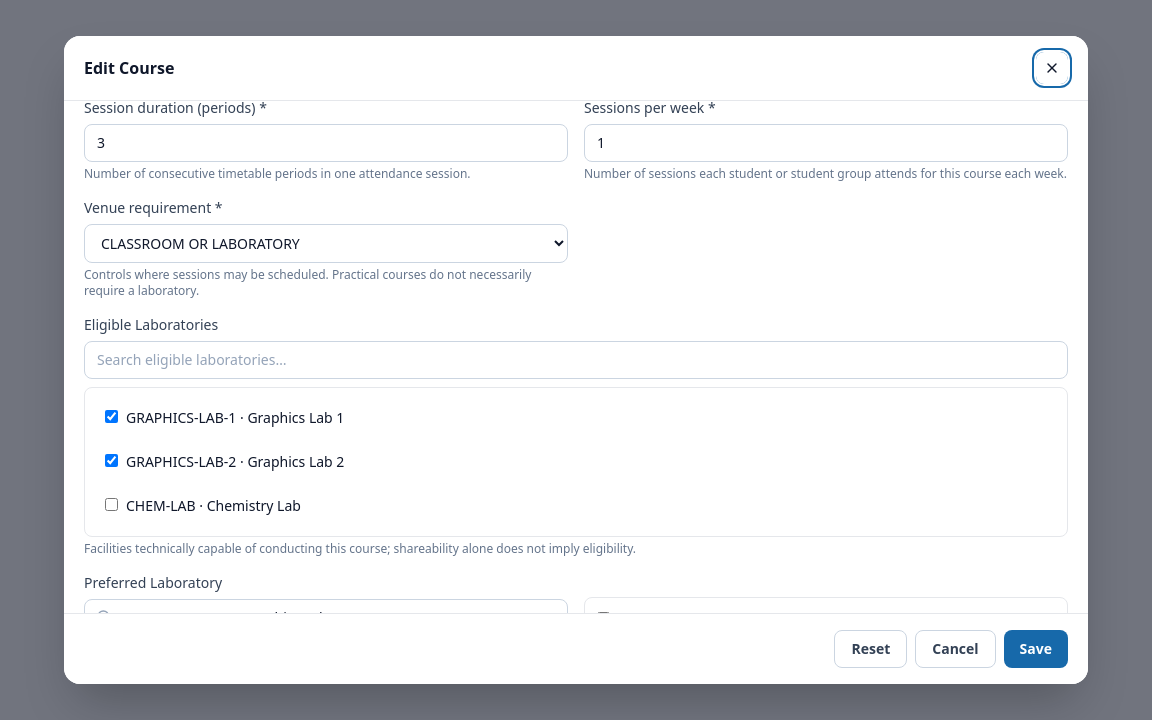
Test: master record form › shows searchable eligible laboratories and limits the preferred selector
The width and height of the screenshot is (1152, 720).
(page scrolled)
Expected: the text "Eligible Laboratories" is shown, [84,315,218,335]
Expected: the text "GRAPHICS-LAB-1 · Graphics Lab 1" is shown, [126,408,344,428]
Type "Chemistry" into the field labelled "Search eligible laboratories" at (576, 360), box [84,341,1068,379]
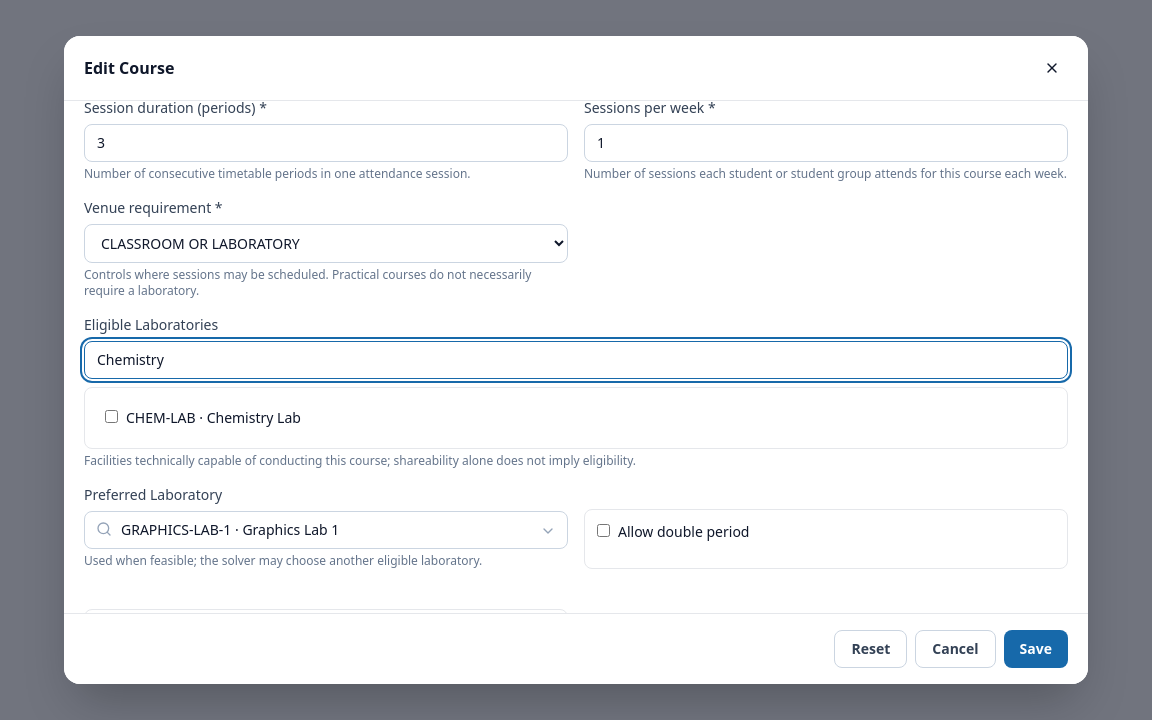
Expected: the text "CHEM-LAB · Chemistry Lab" is shown, [126,408,301,428]
Expected: the text "GRAPHICS-LAB-2" is gone
